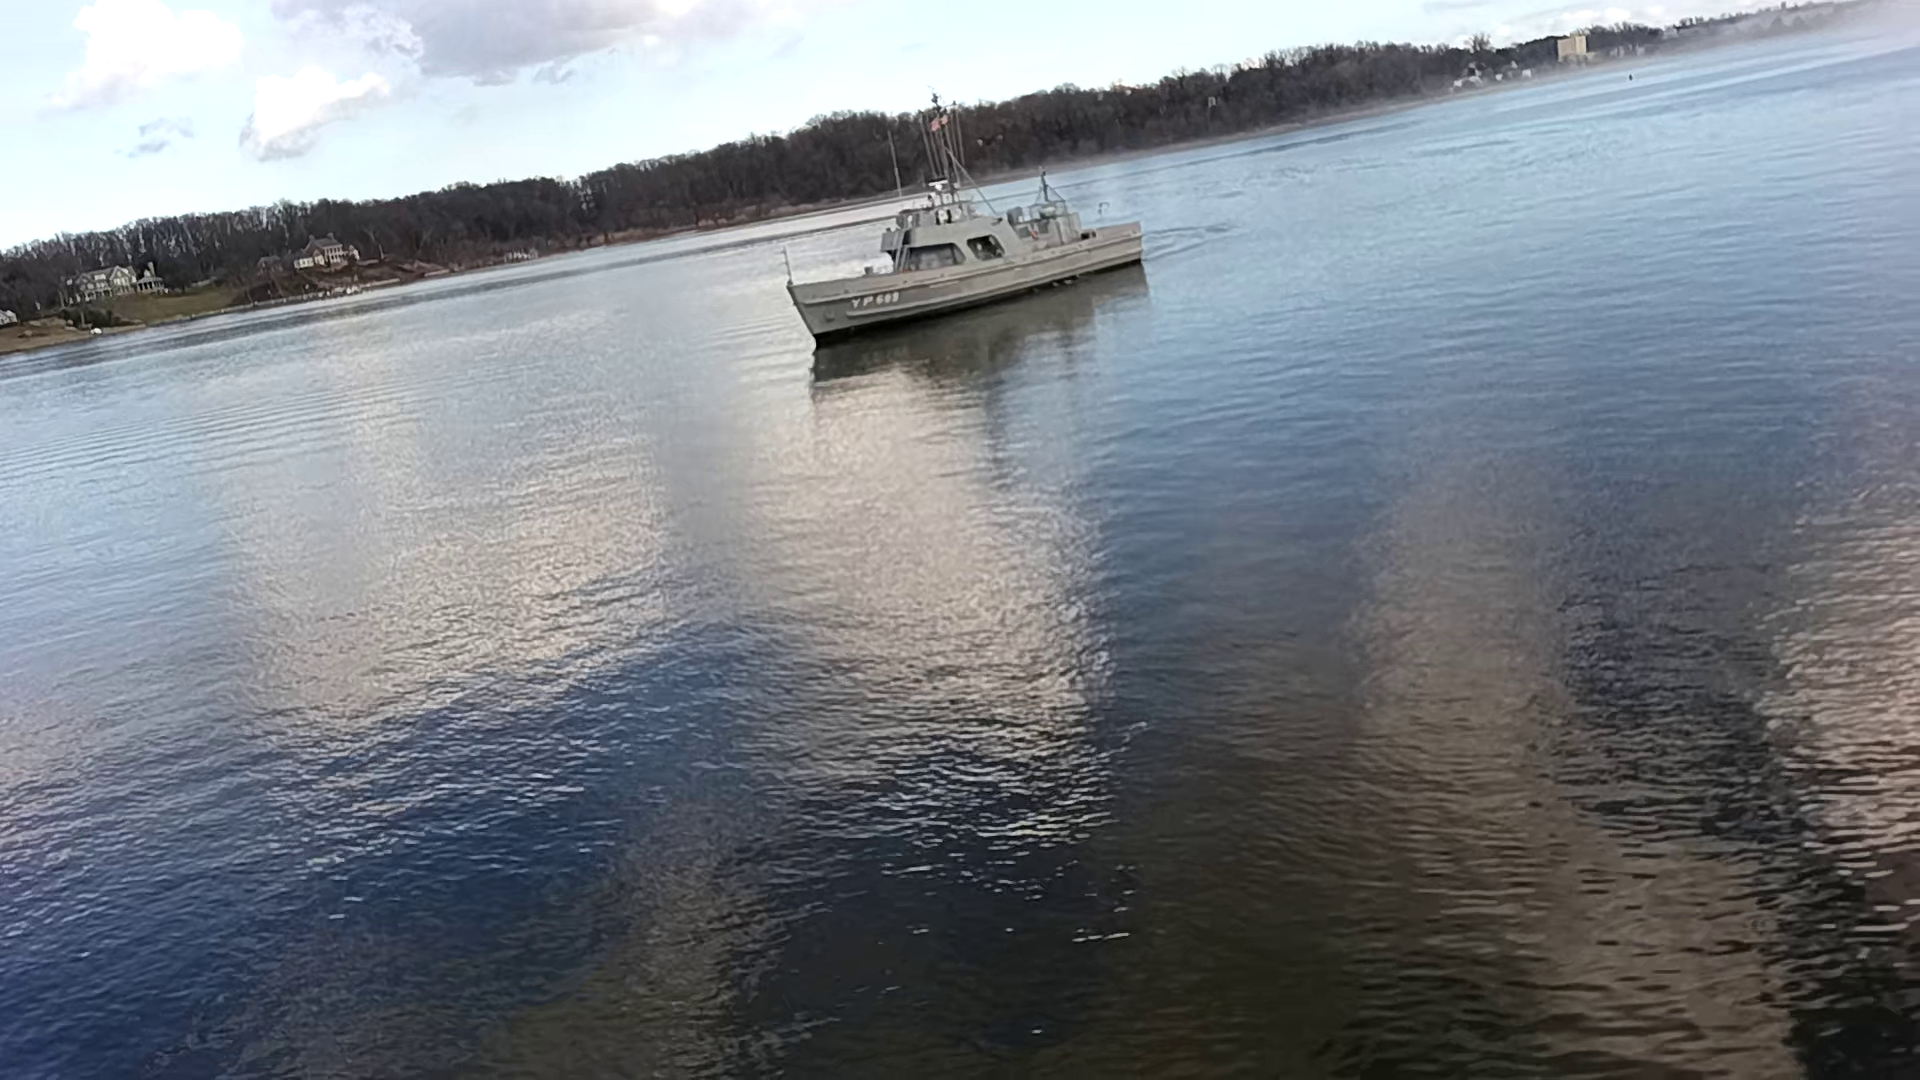YP689: (783, 94, 1145, 347)
